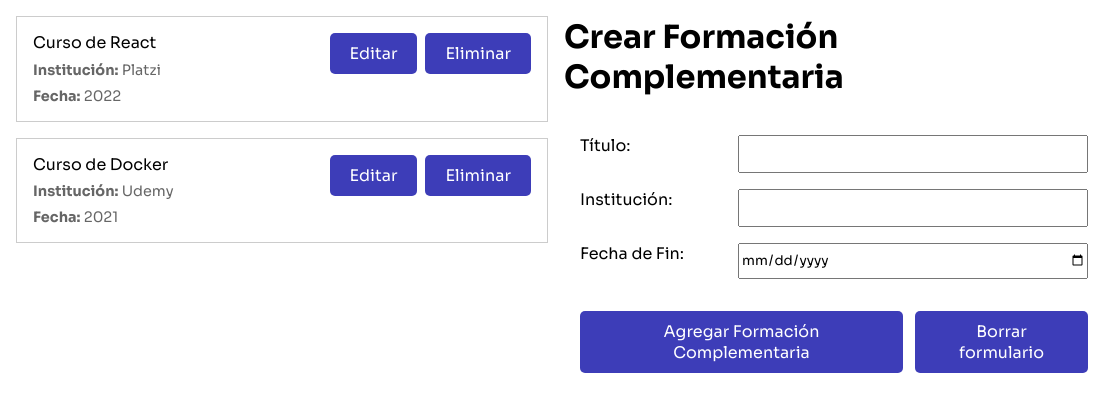
Test case: <FormacionComplementaria /> › «Borrar formulario» deja todos los campos vacíos
Type "Curso de Vitest" into the field labelled "Título:" at [913, 154], box [738, 135, 1088, 173]
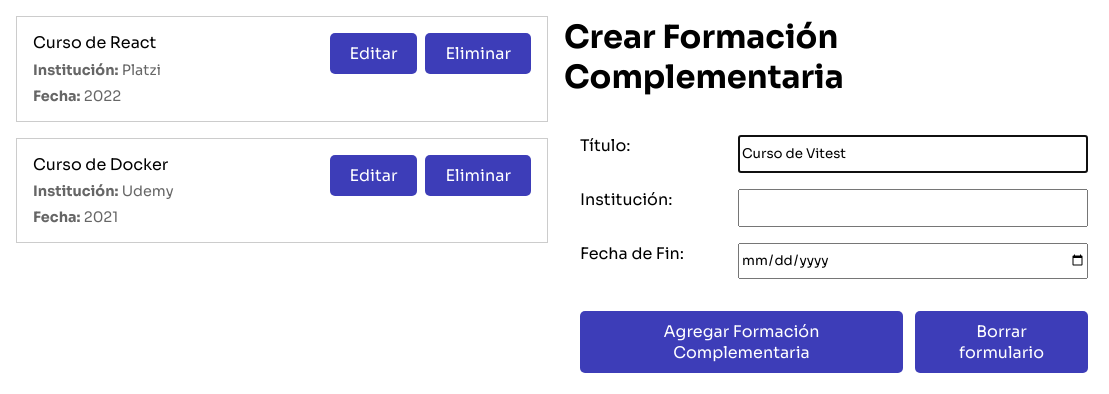
Type "Testing Library" into the field labelled "Institución:" at [913, 208], box [738, 189, 1088, 227]
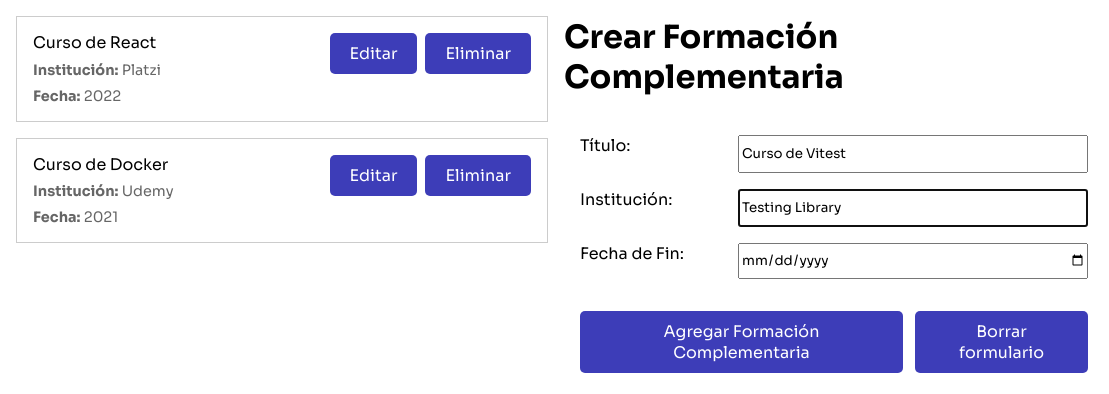
Type "2024-01-31" into the date field labelled "Fecha de Fin:" at [913, 261], box [738, 243, 1088, 279]
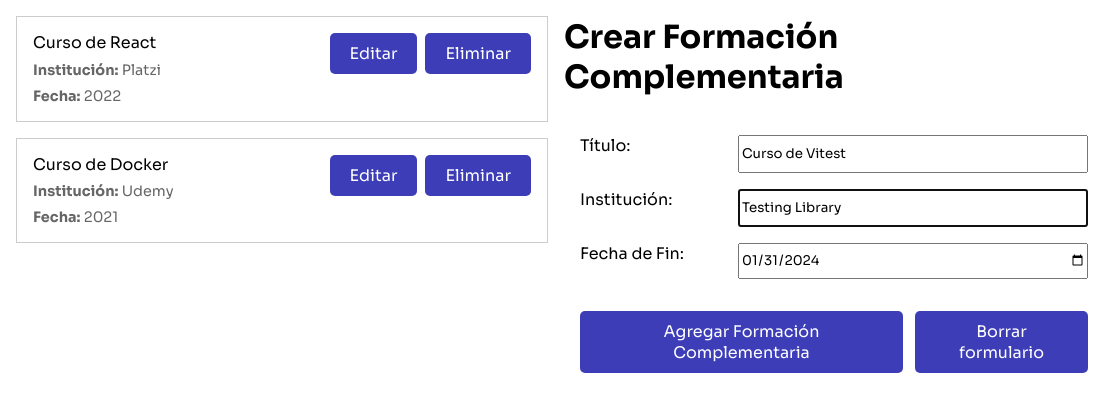
Click the button "Borrar formulario" at [1002, 342], box [915, 311, 1088, 373]
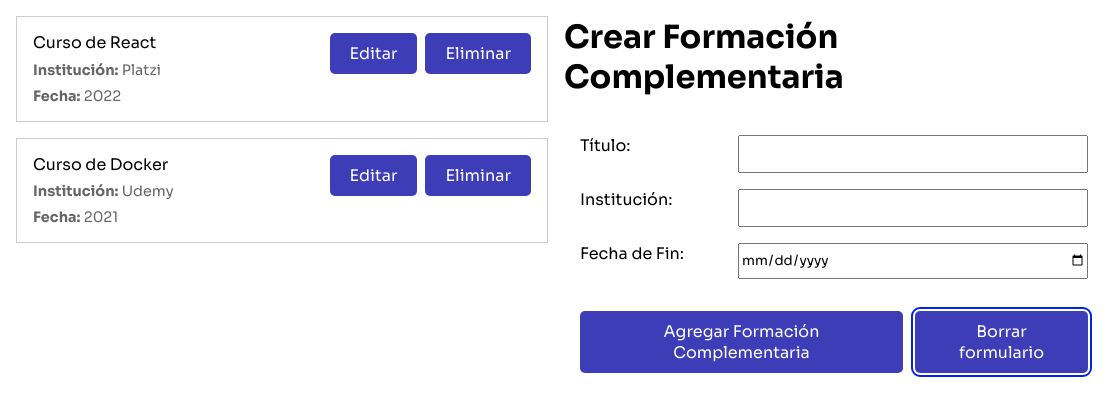
Expected: the field labelled "Título:" is empty, [738, 135, 1088, 173]
Expected: the field labelled "Institución:" is empty, [738, 189, 1088, 227]
Expected: the date field labelled "Fecha de Fin:" is empty, [738, 243, 1088, 279]
